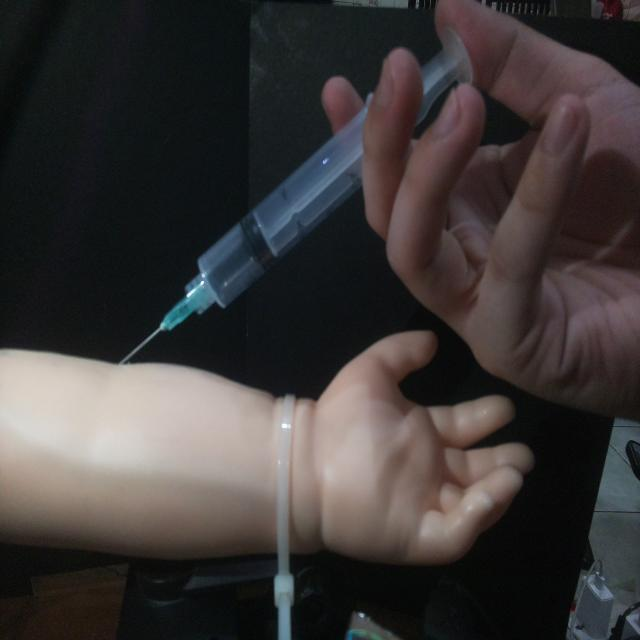30deg: (112, 24, 476, 367)
